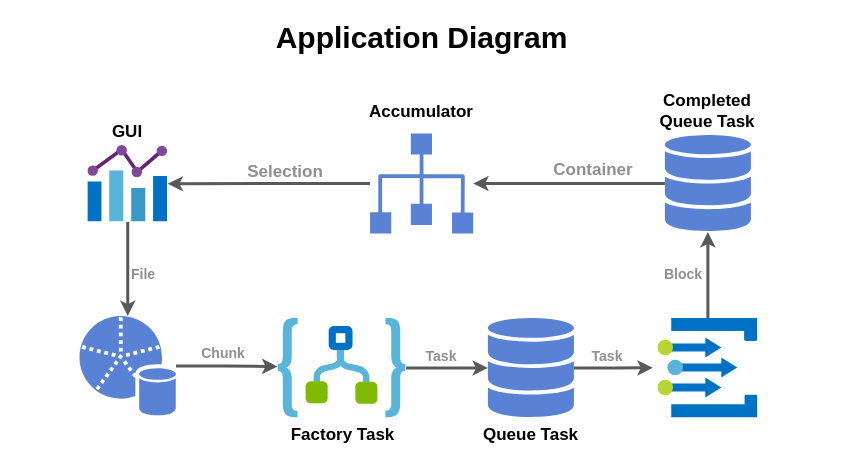
Some shapes in this 844 by 462 pixel diagram are drawn without their labels. The box of each missing label's shape, as (x1, y1, x2, y2) in pixels:
File Separator: (79, 316, 176, 416)
Threads Pool: (657, 318, 757, 418)
